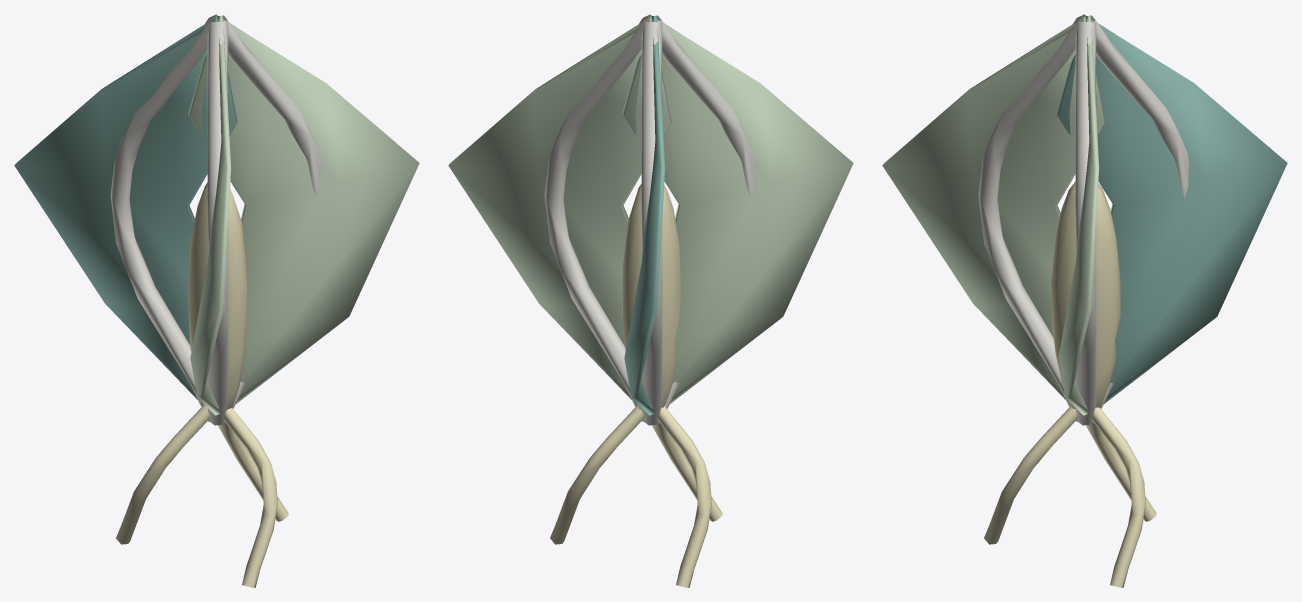
Rendered from bio_lantern_sail_06_far.glb.
3 views of the same model, side by side, from view 1: azimuth 30°, elevation 25°; view 2: azimuth 150°, elevation 25°; view 3: azimuth 270°, elevation 25° (orthographic).
Parts seen in each view (by area): view 1: Ribbed sensory membrane, Ribbed sensory membrane.001, Membrane leading seam.001, Ribbed sensory membrane.002, Buoyancy spindle, Membrane leading seam.002, Membrane leading seam, Trailing electroreceptor.002, Trailing electroreceptor.001, Trailing electroreceptor; view 2: Ribbed sensory membrane.002, Ribbed sensory membrane, Membrane leading seam, Ribbed sensory membrane.001, Buoyancy spindle, Membrane leading seam.001, Membrane leading seam.002, Trailing electroreceptor.001, Trailing electroreceptor, Trailing electroreceptor.002; view 3: Ribbed sensory membrane.001, Ribbed sensory membrane.002, Membrane leading seam.002, Buoyancy spindle, Ribbed sensory membrane, Membrane leading seam, Membrane leading seam.001, Trailing electroreceptor, Trailing electroreceptor.002, Trailing electroreceptor.001.
Part boxes in pixels (left/top/right/bottom): Ribbed sensory membrane: left=188, top=14, right=419, bottom=403; Ribbed sensory membrane.001: left=14, top=16, right=237, bottom=399; Membrane leading seam.001: left=110, top=15, right=215, bottom=421; Ribbed sensory membrane.002: left=190, top=16, right=231, bottom=415; Buoyancy spindle: left=188, top=182, right=247, bottom=409; Membrane leading seam.002: left=207, top=22, right=228, bottom=425; Membrane leading seam: left=214, top=15, right=321, bottom=408; Trailing electroreceptor.002: left=223, top=408, right=277, bottom=587; Trailing electroreceptor.001: left=116, top=405, right=210, bottom=544; Trailing electroreceptor: left=218, top=422, right=288, bottom=521; Ribbed sensory membrane.002: left=622, top=14, right=853, bottom=403; Ribbed sensory membrane: left=448, top=16, right=671, bottom=399; Membrane leading seam: left=544, top=15, right=649, bottom=421; Ribbed sensory membrane.001: left=624, top=16, right=665, bottom=415; Buoyancy spindle: left=622, top=184, right=680, bottom=410; Membrane leading seam.001: left=641, top=22, right=662, bottom=425; Membrane leading seam.002: left=648, top=15, right=755, bottom=408; Trailing electroreceptor.001: left=657, top=406, right=711, bottom=587; Trailing electroreceptor: left=550, top=405, right=644, bottom=544; Trailing electroreceptor.002: left=652, top=422, right=722, bottom=521; Ribbed sensory membrane.001: left=1056, top=14, right=1287, bottom=403; Ribbed sensory membrane.002: left=882, top=16, right=1105, bottom=399; Membrane leading seam.002: left=978, top=15, right=1083, bottom=421; Buoyancy spindle: left=1051, top=181, right=1120, bottom=409; Ribbed sensory membrane: left=1058, top=16, right=1099, bottom=415; Membrane leading seam: left=1075, top=22, right=1096, bottom=425; Membrane leading seam.001: left=1082, top=15, right=1189, bottom=408; Trailing electroreceptor: left=1091, top=407, right=1145, bottom=587; Trailing electroreceptor.002: left=984, top=406, right=1078, bottom=544; Trailing electroreceptor.001: left=1086, top=422, right=1156, bottom=521.
Bounding box in the file's own units: 1.73 × 2.89 × 1.98.
